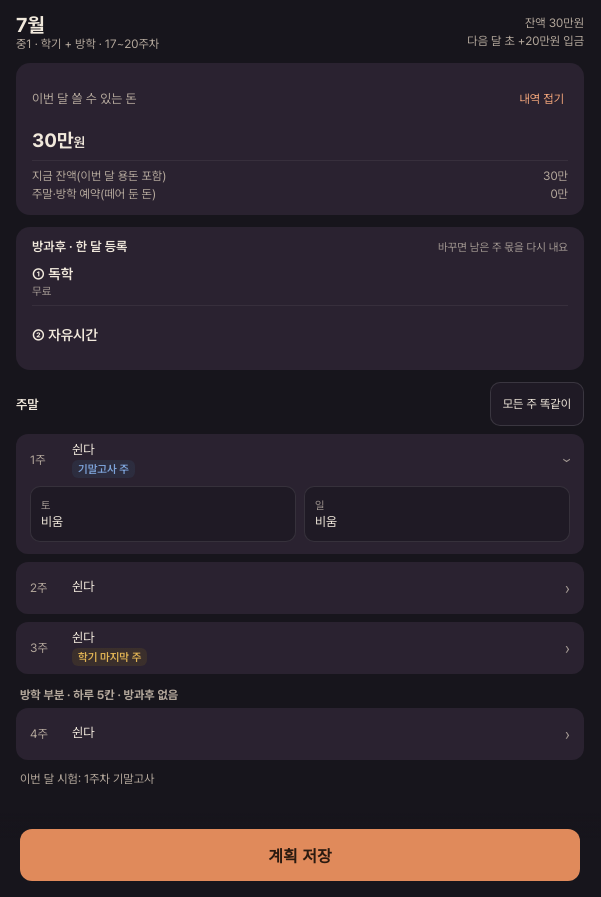
Scenario: 한 달 계획 화면 — 짜고, 예산이 움직이고, 시작하면 저장된다 › 섞인 달(7월)은 방학 부분이 따로 있고, 방학 주는 칸이 5개다
expect the text "방학 부분 · 하루 5칸 · 방과후 없음" is shown: met, box [20,688,178,702]
Click the button "4주 쉰다 ›".
click(34, 734)  # box [16,708,584,760]
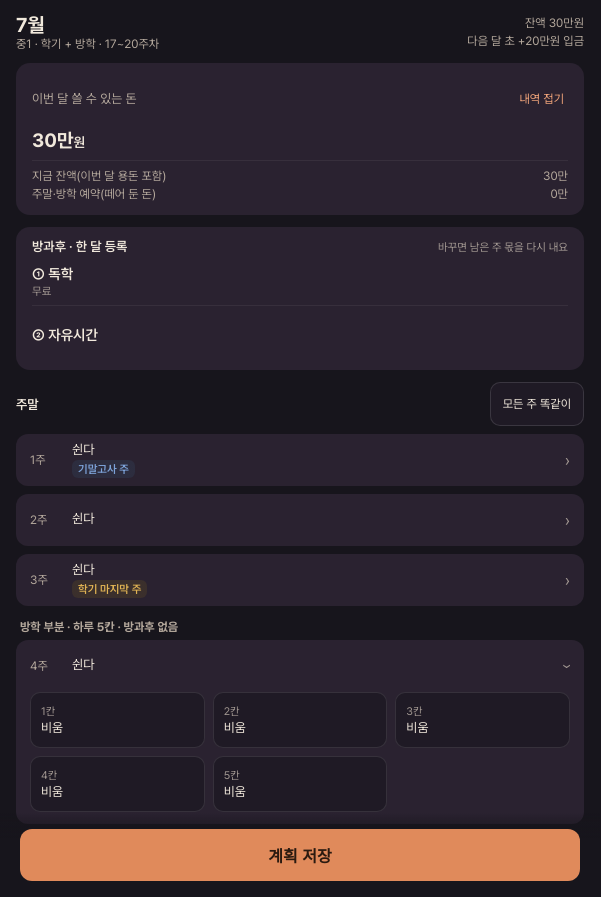
expect the text "기말고사 주" is shown: met, box [72,460,135,478]
expect the button with test id "slot-20-4" is shown: met, box [213,756,387,812]
